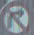Don't turn right: (1, 2, 31, 34)
